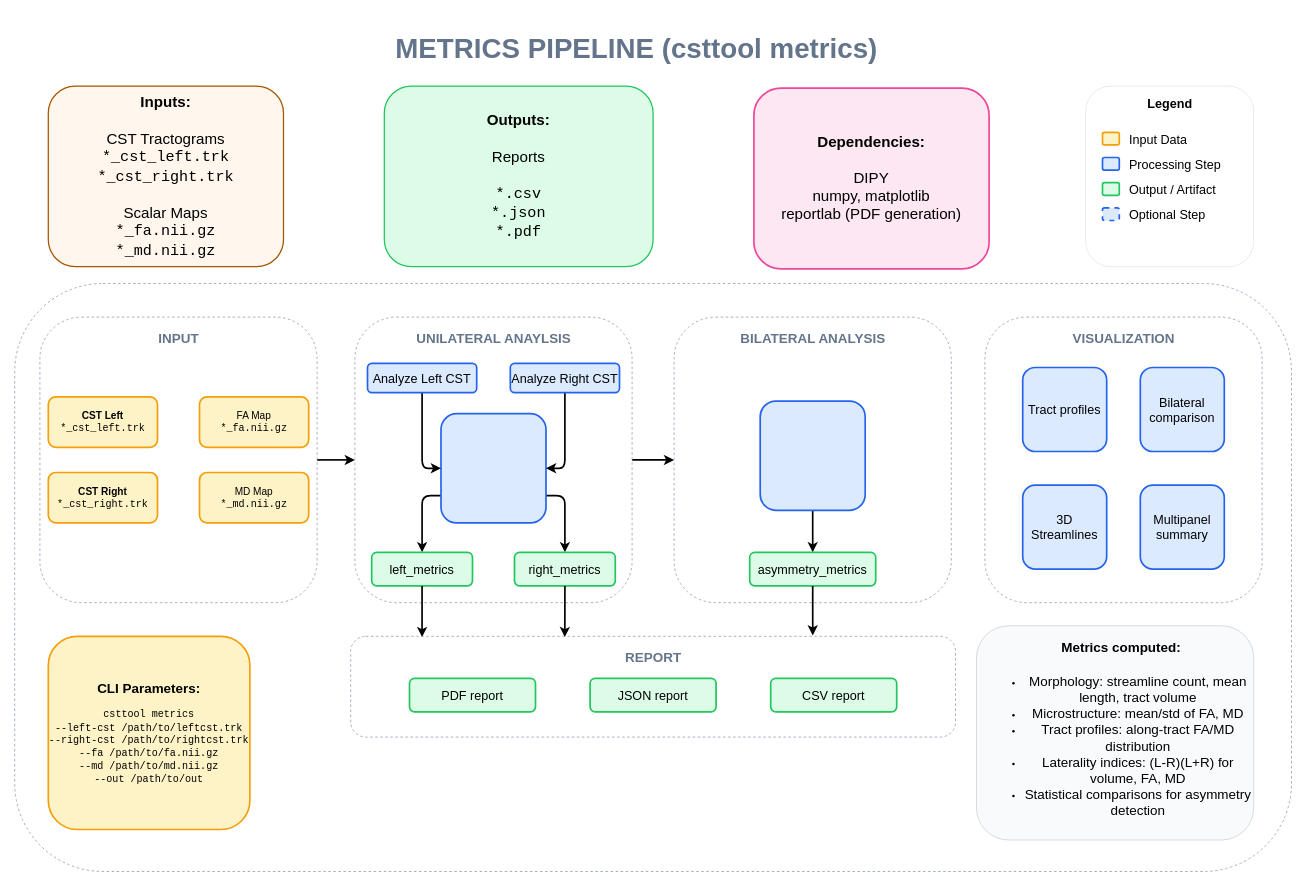
Image size: 1306x886. Some labels were removed from this diagram. Each missing label, with the box of its shape:
Morphology Tract Profile FA MD Statistics: (440, 412, 546, 523)
Volume Laterality FA Laterality MD Laterality: (759, 400, 866, 511)
